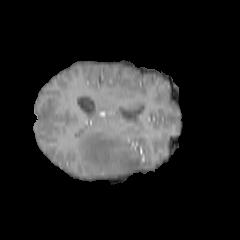glioma: (76, 127, 143, 176)
